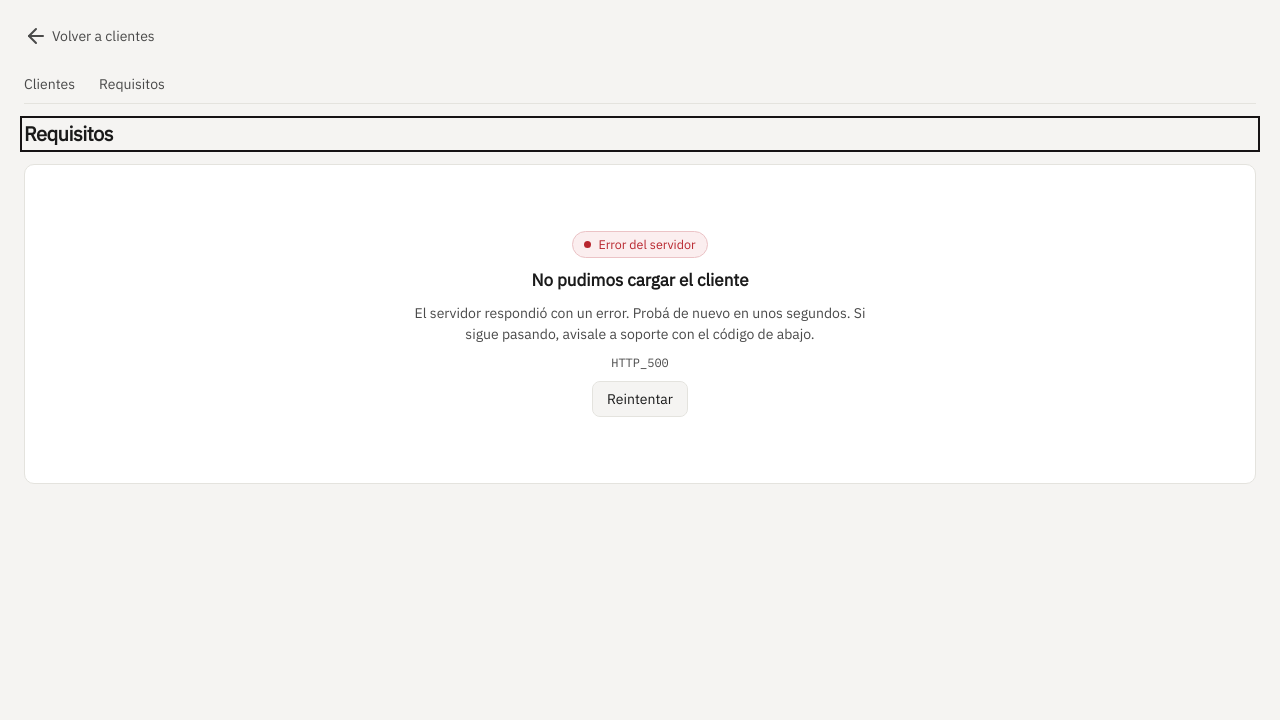
Scenario: MatrizPage: cliente › un error de servidor del cliente se distingue y se puede reintentar
Check: the message shows "No pudimos cargar el cliente", box 531,269 -> 749,291
Check: the message shows "Error del servidor", box 598,236 -> 696,252
What coordinates should you click on to do the following:
click the button "Reintentar"
I would click on:
 (640, 399)
Its box is 592,381 -> 688,417.
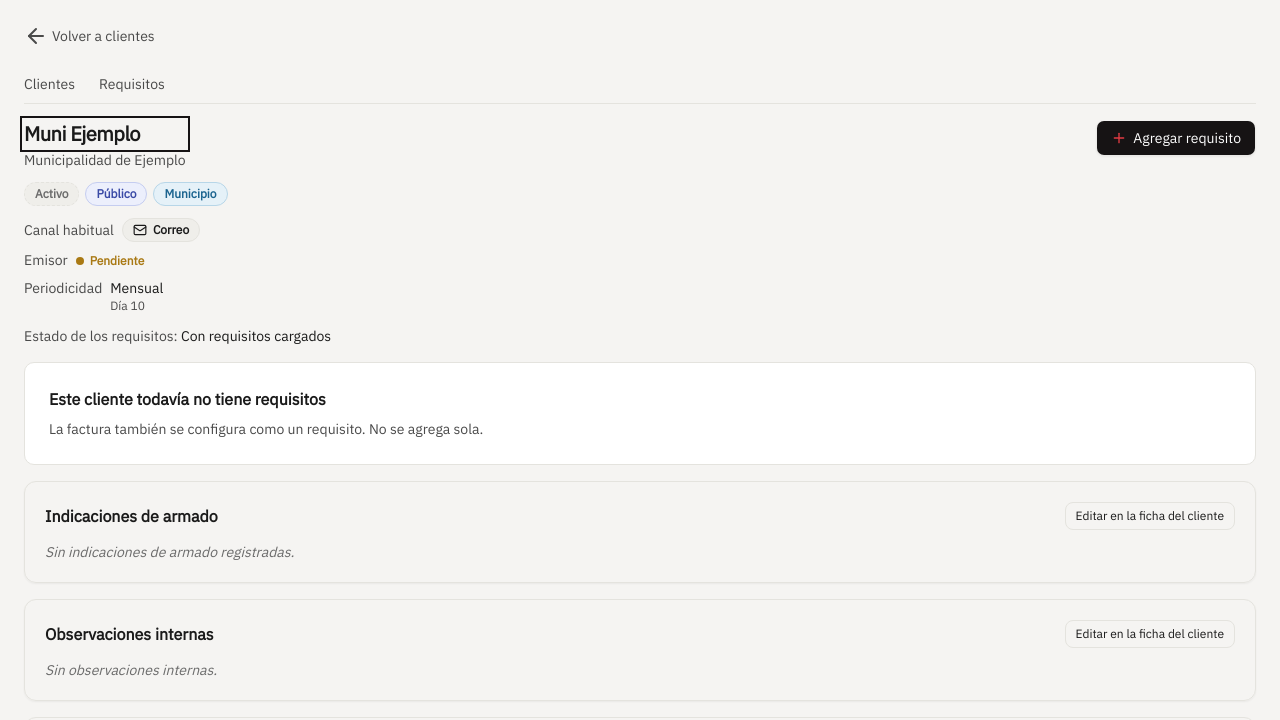
Check: the message is gone
